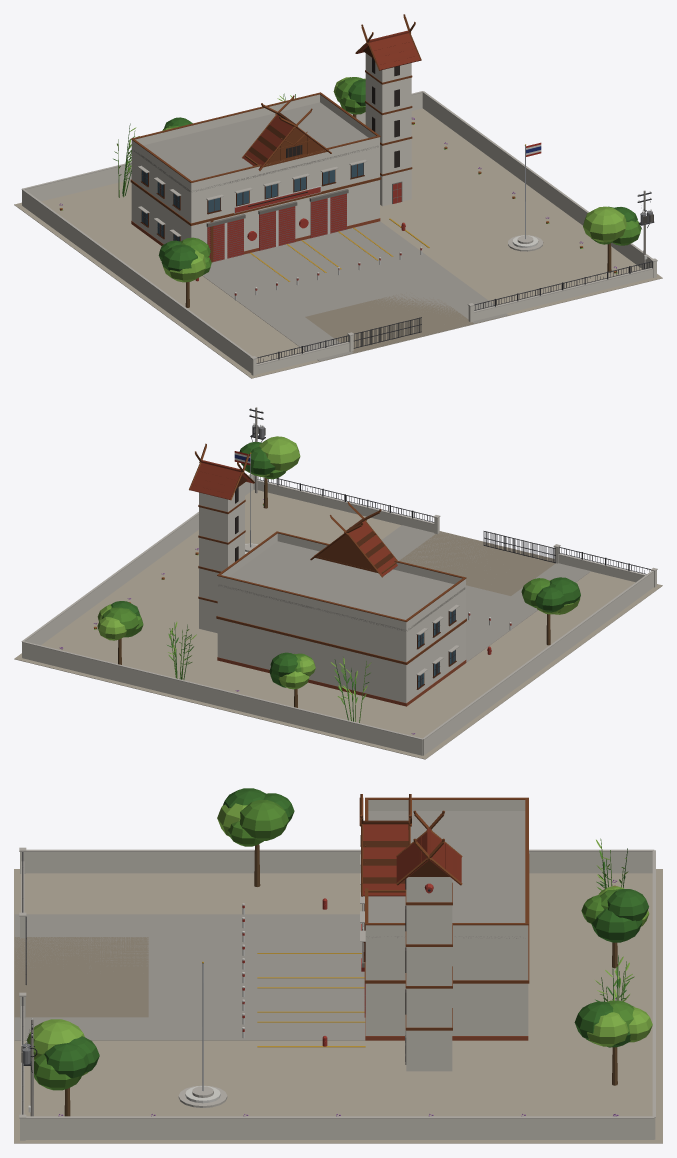
Rendered from fire.glb.
3 views of the same model, one above another, from view 1: azimuth 30°, elevation 25°; view 2: azimuth 150°, elevation 25°; view 3: azimuth 270°, elevation 25° (orthographic). The views are drawn at different scales.
Parts seen in each view (by area): view 1: body, windows; view 2: body, windows; view 3: body.
Boxes of the visible parts, x1,y1,x2,y2 form: body: (14,14,662,378); windows: (142,58,399,241); body: (14,407,662,759); windows: (235,487,455,687); body: (14,788,662,1143).
Size of the model in its own units: 48 by 19.54 by 47.9.
